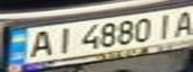0: (133, 15, 157, 43)
4: (78, 20, 103, 51)
8: (96, 19, 121, 48), (115, 17, 139, 46)
A: (21, 28, 57, 60), (169, 7, 193, 37)
I: (48, 25, 78, 55), (151, 10, 181, 39)
